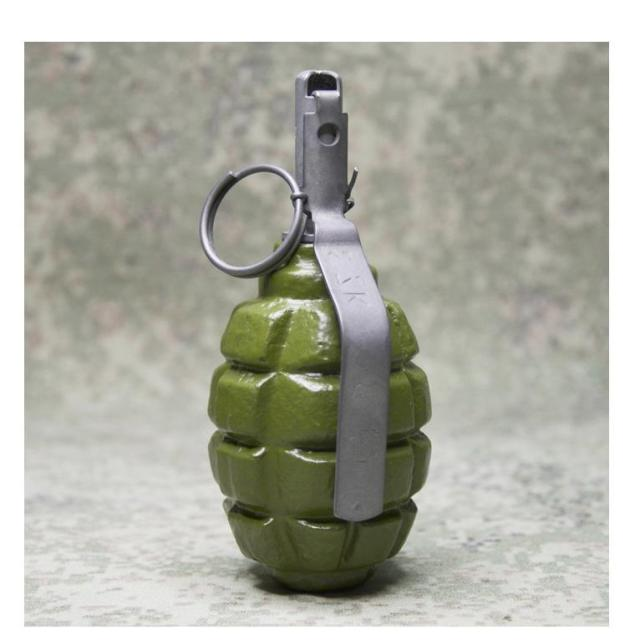grenade: (201, 72, 433, 585)
